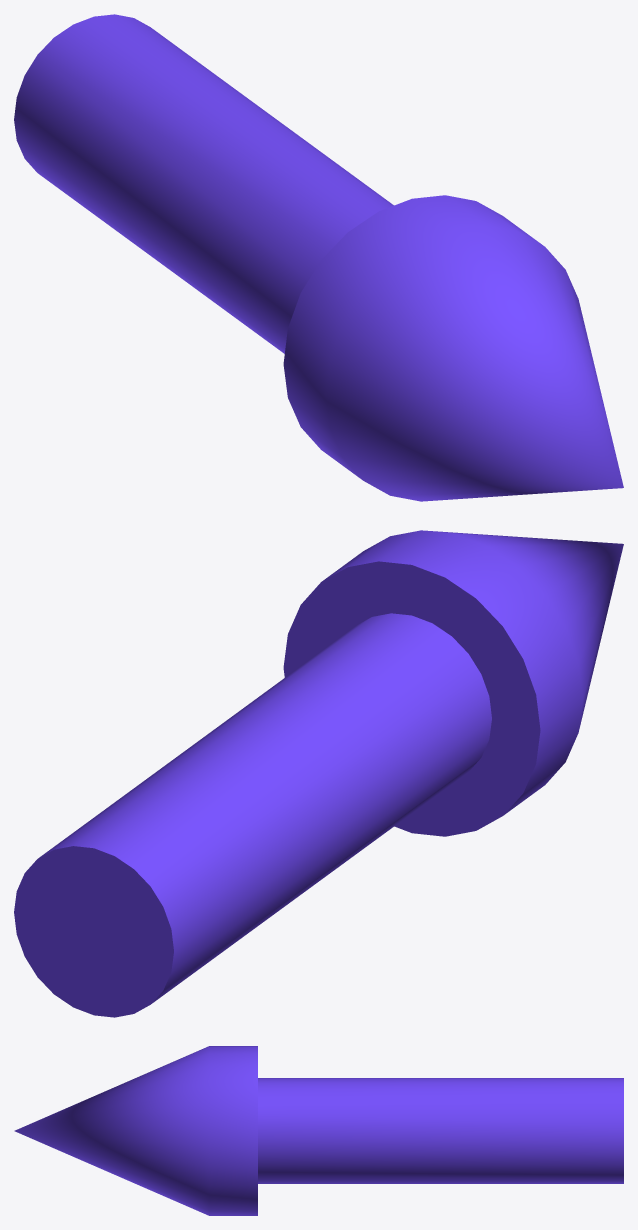
The model's file is Direction Arrow.fbx.
The picture shows the model from 3 angles, top to bottom: view 1: azimuth 30°, elevation 25°; view 2: azimuth 150°, elevation 25°; view 3: azimuth 270°, elevation 25°; orthographic projection. The views are drawn at different scales.
Visible parts, largest first — view 1: Model; view 2: Model; view 3: Model.
Part boxes in pixels (x1,y1,x2,y2): Model: [14, 14, 623, 501]; Model: [14, 530, 623, 1017]; Model: [14, 1046, 623, 1215].
Bounding box in the file's own units: 0.7 × 0.6983 × 2.5.
